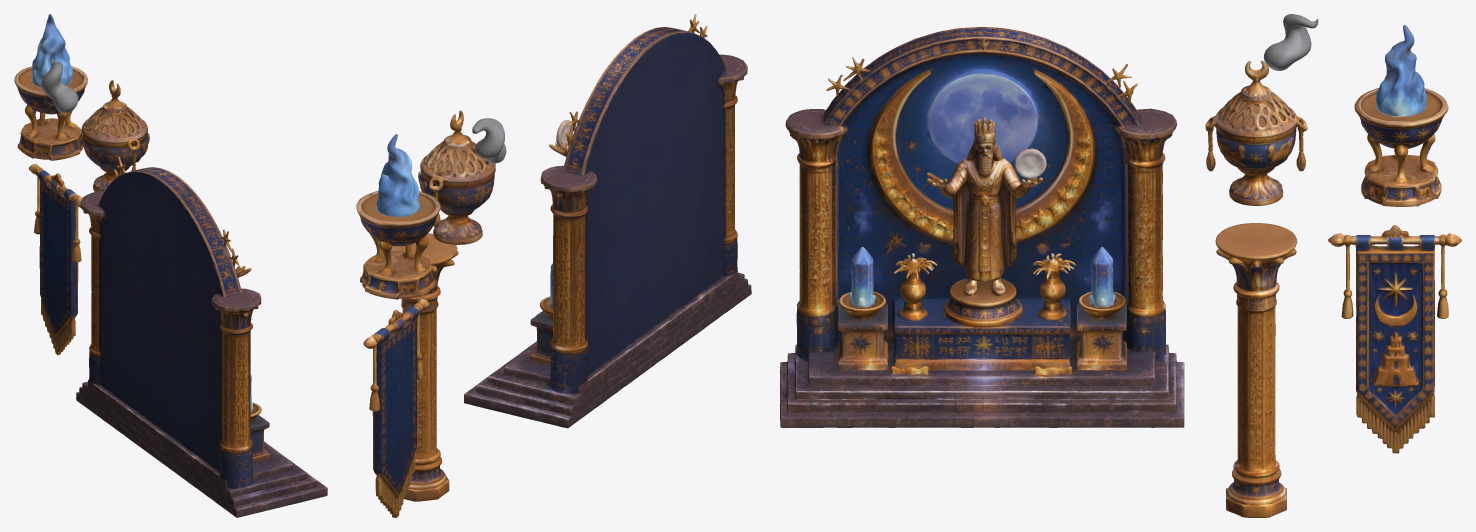
Rendered from اثاث الحرم المقدس.glb.
The picture shows the model from 3 angles, left to right: view 1: azimuth 30°, elevation 25°; view 2: azimuth 150°, elevation 25°; view 3: azimuth 270°, elevation 25°; orthographic projection. The views are drawn at different scales.
Parts seen in each view (by area): view 1: world; view 2: world; view 3: world.
Part boxes in pixels (bbox=[...]): world: bbox=[14, 14, 327, 517]; world: bbox=[356, 14, 751, 517]; world: bbox=[780, 14, 1461, 517].
Size of the model in its own units: 0.2931 by 0.739 by 1.
Materials: 1 (1 with a texture image).
